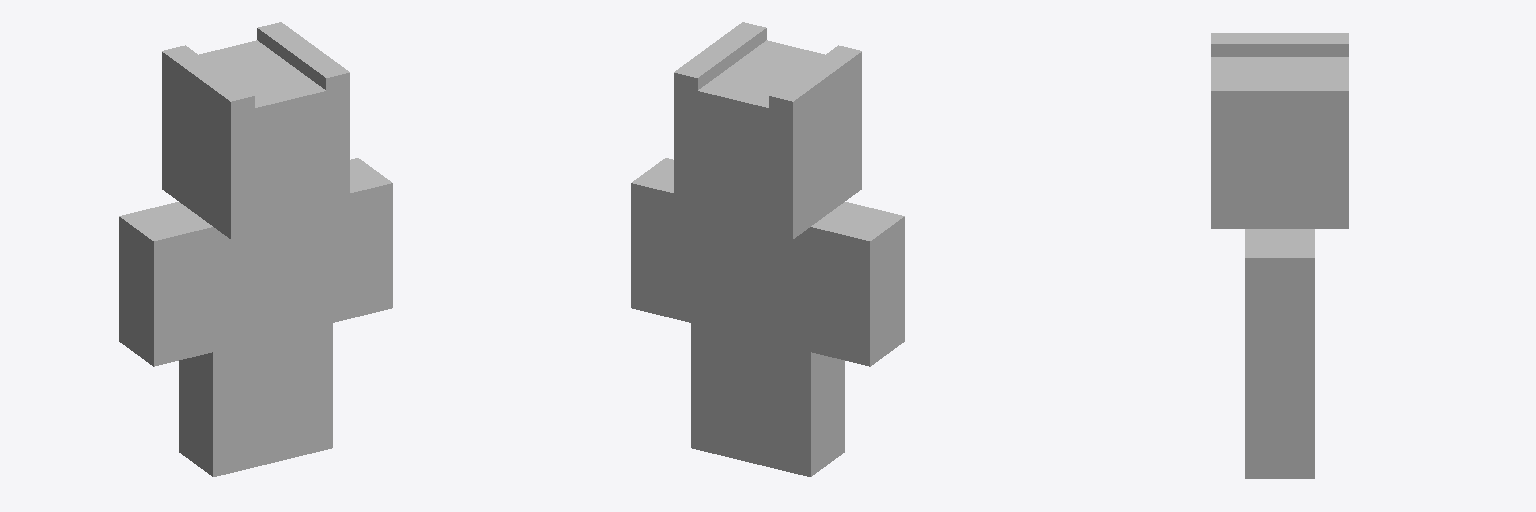
File: player_stand.obj
3 views of the same model, side by side, from view 1: azimuth 30°, elevation 25°; view 2: azimuth 150°, elevation 25°; view 3: azimuth 270°, elevation 25° (orthographic).
Parts seen in each view (by area): view 1: Cube.001, Cube.004, Cube, Cube.002, Cube.003, Cube.005, Cube.006, Cube.007; view 2: Cube.001, Cube.004, Cube, Cube.002, Cube.003, Cube.005, Cube.006, Cube.007; view 3: Cube.001, Cube.003, Cube.005, Cube.007, Cube.006.
Part boxes in pixels (bbox=[...]): Cube.001: bbox=[162, 40, 349, 238]; Cube.004: bbox=[119, 202, 212, 366]; Cube: bbox=[213, 215, 332, 351]; Cube.002: bbox=[179, 338, 272, 476]; Cube.003: bbox=[333, 158, 392, 322]; Cube.005: bbox=[273, 323, 332, 462]; Cube.006: bbox=[162, 45, 254, 113]; Cube.007: bbox=[257, 22, 349, 90]; Cube.001: bbox=[674, 40, 861, 238]; Cube.004: bbox=[811, 202, 904, 366]; Cube: bbox=[691, 215, 810, 351]; Cube.002: bbox=[751, 338, 844, 476]; Cube.003: bbox=[631, 158, 690, 322]; Cube.005: bbox=[691, 323, 750, 462]; Cube.006: bbox=[769, 45, 861, 113]; Cube.007: bbox=[674, 22, 766, 90]; Cube.001: bbox=[1211, 57, 1348, 228]; Cube.003: bbox=[1245, 229, 1314, 382]; Cube.005: bbox=[1245, 383, 1314, 478]; Cube.007: bbox=[1211, 79, 1348, 103]; Cube.006: bbox=[1211, 33, 1348, 56].
Size of the model in its own units: 4 by 6.2 by 2.